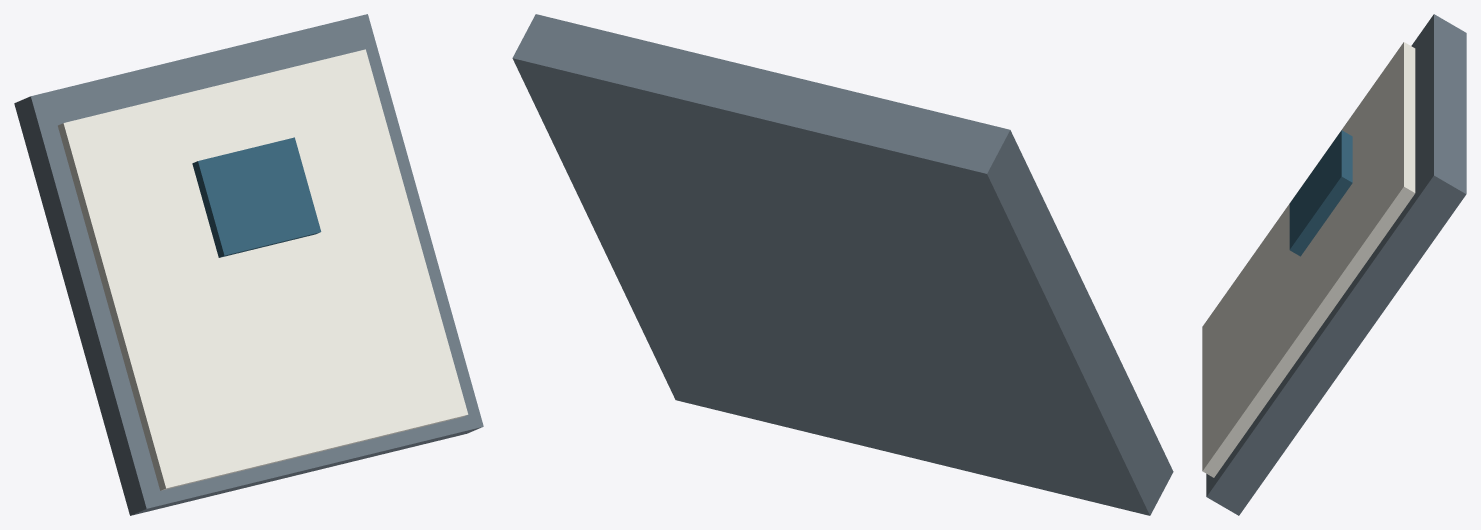
Rendered from orion_cm.side_hatch.glb.
The picture shows the model from 3 angles, left to right: view 1: azimuth 30°, elevation 25°; view 2: azimuth 150°, elevation 25°; view 3: azimuth 270°, elevation 25°; orthographic projection. The views are drawn at different scales.
Visible parts, largest first — view 1: orion_cm.side_hatch.mesh_Warm_white_enamel, orion_cm.side_hatch.mesh_Machined_steel, orion_cm.side_hatch.mesh_Coated_optical_glass; view 2: orion_cm.side_hatch.mesh_Machined_steel; view 3: orion_cm.side_hatch.mesh_Warm_white_enamel, orion_cm.side_hatch.mesh_Machined_steel, orion_cm.side_hatch.mesh_Coated_optical_glass.
Part boxes in pixels (<box>): orion_cm.side_hatch.mesh_Warm_white_enamel: <box>58,49,468,490</box>; orion_cm.side_hatch.mesh_Machined_steel: <box>14,14,483,515</box>; orion_cm.side_hatch.mesh_Coated_optical_glass: <box>192,137,321,257</box>; orion_cm.side_hatch.mesh_Machined_steel: <box>512,14,1173,515</box>; orion_cm.side_hatch.mesh_Warm_white_enamel: <box>1202,42,1415,477</box>; orion_cm.side_hatch.mesh_Machined_steel: <box>1206,14,1466,515</box>; orion_cm.side_hatch.mesh_Coated_optical_glass: <box>1289,130,1352,256</box>.
Size of the model in its own units: 0.87 by 0.8557 by 0.6012.
